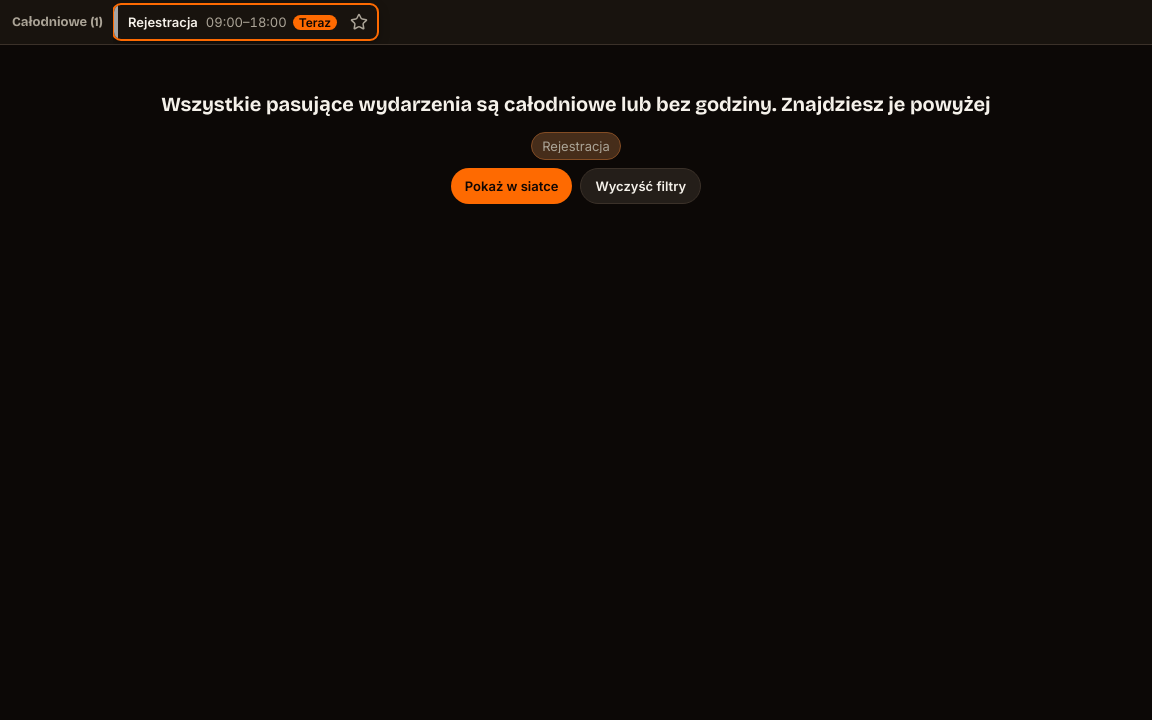
ScheduleGrid in timeline mode › shows the strip-only empty state and moves the zones into the grid on request
Expected: the heading "Wszystkie pasujące wydarzenia są całodniowe lub bez godziny. Znajdziesz je powyżej" is shown, [161,92,991,116]
Expected: the button "Wyczyść filtry" is shown, [580,168,701,204]
Click the button "Pokaż w siatce" at (512, 186), box [451,168,572,204]
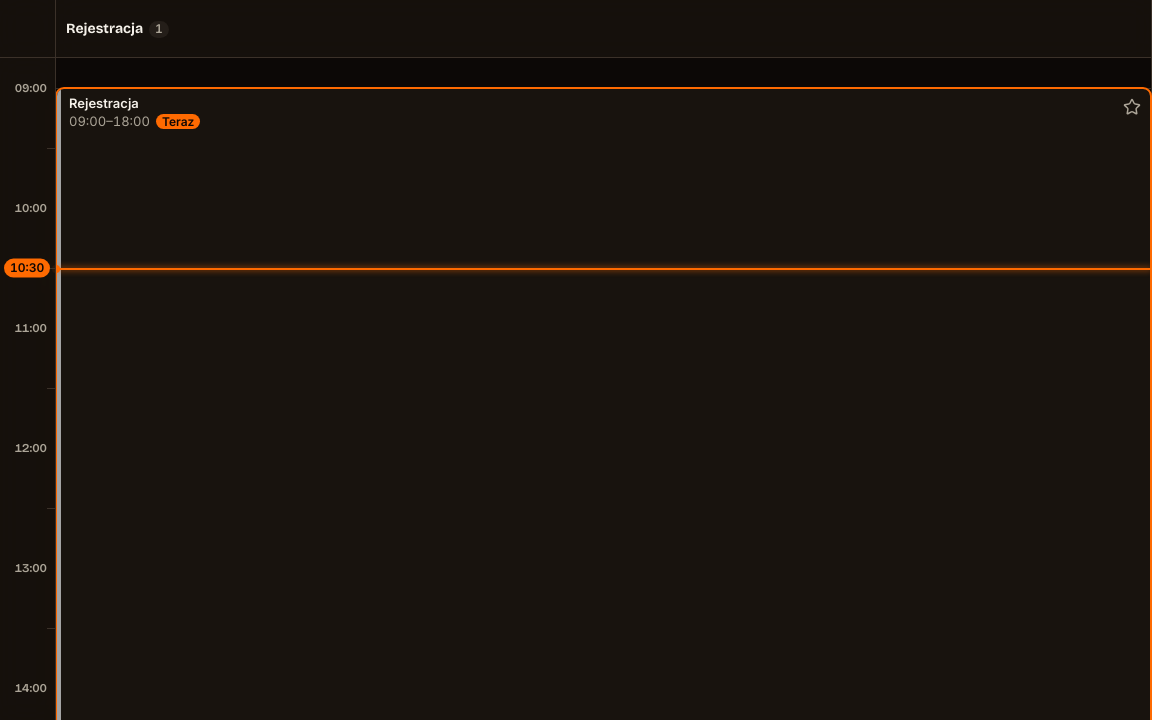
Expected: the message is gone
